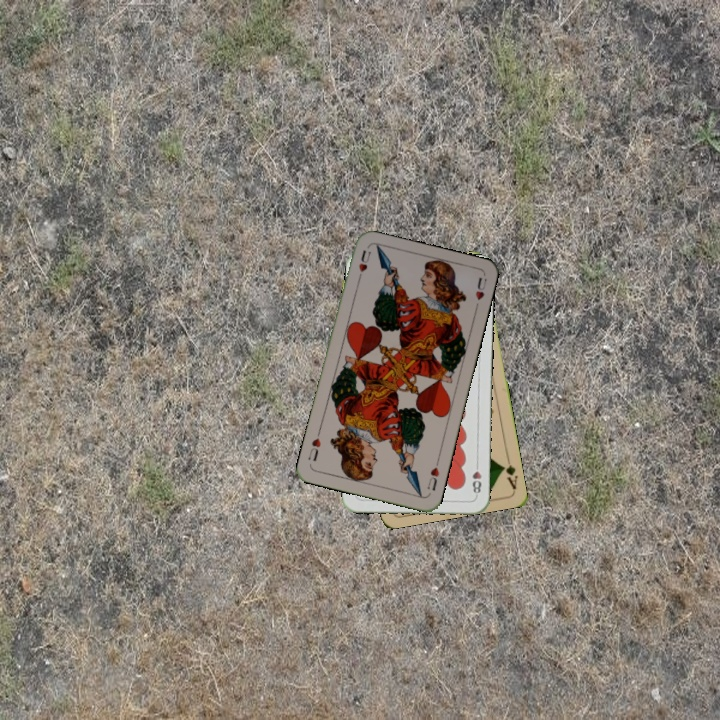GA: (498, 451, 520, 491)
H8: (468, 458, 484, 498)
HU: (353, 246, 373, 284), (423, 456, 442, 493)
